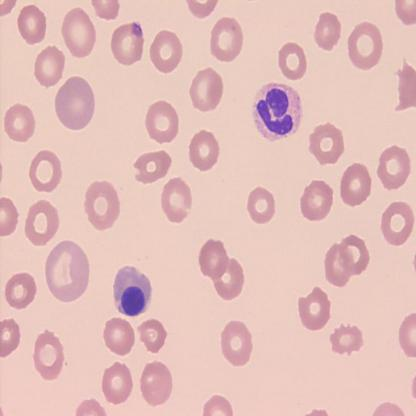NRC: (110, 262, 152, 318)
